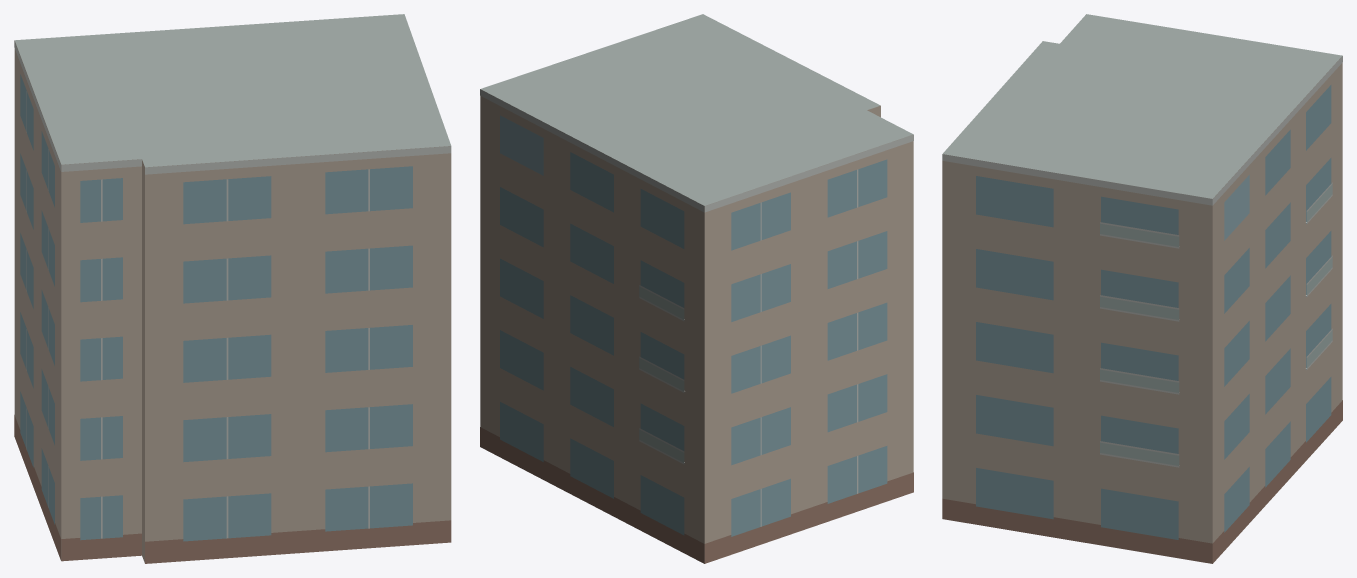
Rendered from survey-upis-32944848.glb.
3 renders of one model, left to right at view 1: azimuth 30°, elevation 25°; view 2: azimuth 150°, elevation 25°; view 3: azimuth 270°, elevation 25°, orthographic. The views are drawn at different scales.
Parts seen in each view (by area): view 1: survey-upis-32944848.tmp; view 2: survey-upis-32944848.tmp; view 3: survey-upis-32944848.tmp.
Part boxes in pixels (x1,y1,x2,y2): survey-upis-32944848.tmp: [14, 14, 451, 563]; survey-upis-32944848.tmp: [480, 14, 913, 563]; survey-upis-32944848.tmp: [942, 14, 1342, 563].
Bounding box in the file's own units: 14.36 × 13.2 × 13.13.
